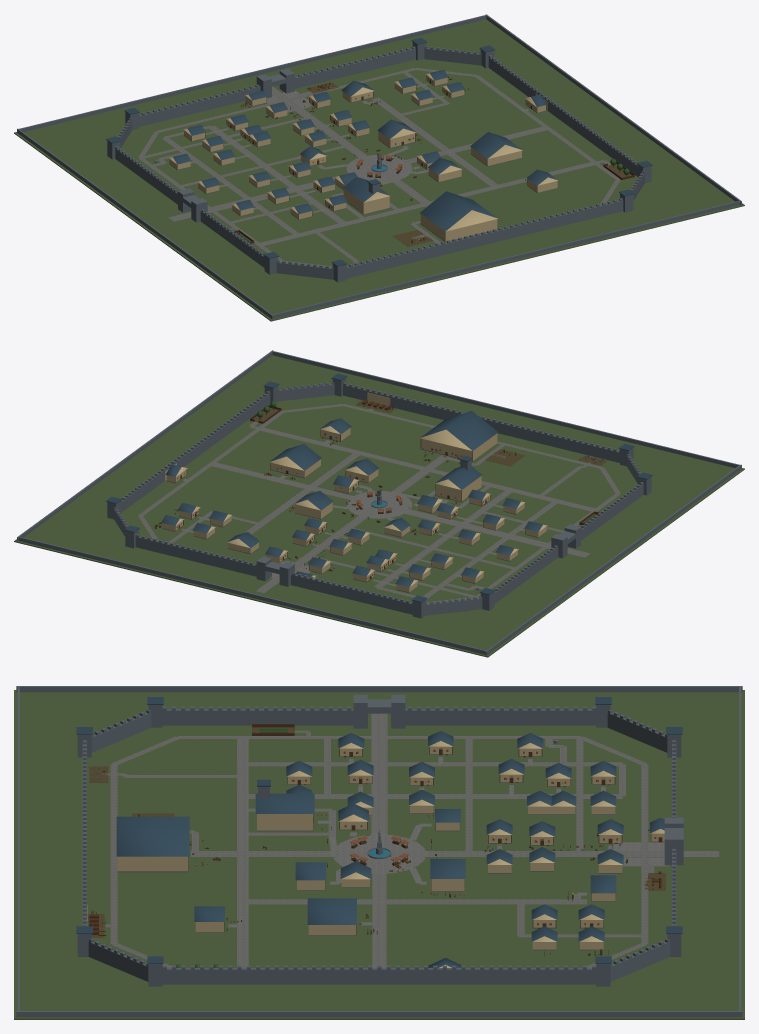
The model's file is town.glb.
The picture shows the model from 3 angles, top to bottom: view 1: azimuth 30°, elevation 25°; view 2: azimuth 150°, elevation 25°; view 3: azimuth 270°, elevation 25°; orthographic projection. The views are drawn at different scales.
Visible parts, largest first — view 1: Town ground, Continuous curtain wall (×8), Outer boundary (×4), Filled gabled roof (×3), Plaster and timber mass (×2); view 2: Town ground, Continuous curtain wall (×8), Outer boundary (×4), Filled gabled roof (×3), Plaster and timber mass (×2); view 3: Town ground, Continuous curtain wall (×7), Outer boundary (×4), Filled gabled roof (×5), Plaster and timber mass (×2), B_Plaza_0_-1, B_Plaza_0_0, B_Plaza_-1_-1, Gate tower, B_Plaza_-1_0, B_Road_-1_1, B_Road_0_1 (+1 smaller).
Part boxes in pixels (x1,y1,x2,y2): Town ground: (14,19,744,321); Continuous curtain wall (×8): (115,47,638,279); Outer boundary (×4): (17,14,741,319); Filled gabled roof (×3): (343,132,522,231); Plaster and timber mass (×2): (343,188,497,241); Town ground: (14,355,744,657); Continuous curtain wall (×8): (120,383,643,615); Outer boundary (×4): (17,350,741,655); Filled gabled roof (×3): (269,411,498,489); Plaster and timber mass (×2): (421,433,497,501); Town ground: (14,690,744,1019); Continuous curtain wall (×7): (88,709,670,984); Outer boundary (×4): (16,686,742,1017); Filled gabled roof (×5): (116,793,465,924); Plaster and timber mass (×2): (117,814,313,871); B_Plaza_0_-1: (380,821,456,854); B_Plaza_0_0: (302,821,378,854); B_Plaza_-1_-1: (379,854,428,886); Gate tower: (664,833,683,865); B_Plaza_-1_0: (330,854,379,886); B_Road_-1_1: (228,854,303,885); B_Road_0_1: (228,822,303,853).
Size of the model in its own units: 330 by 19.2 by 310.
Materials: 33 (3 with a texture image).
